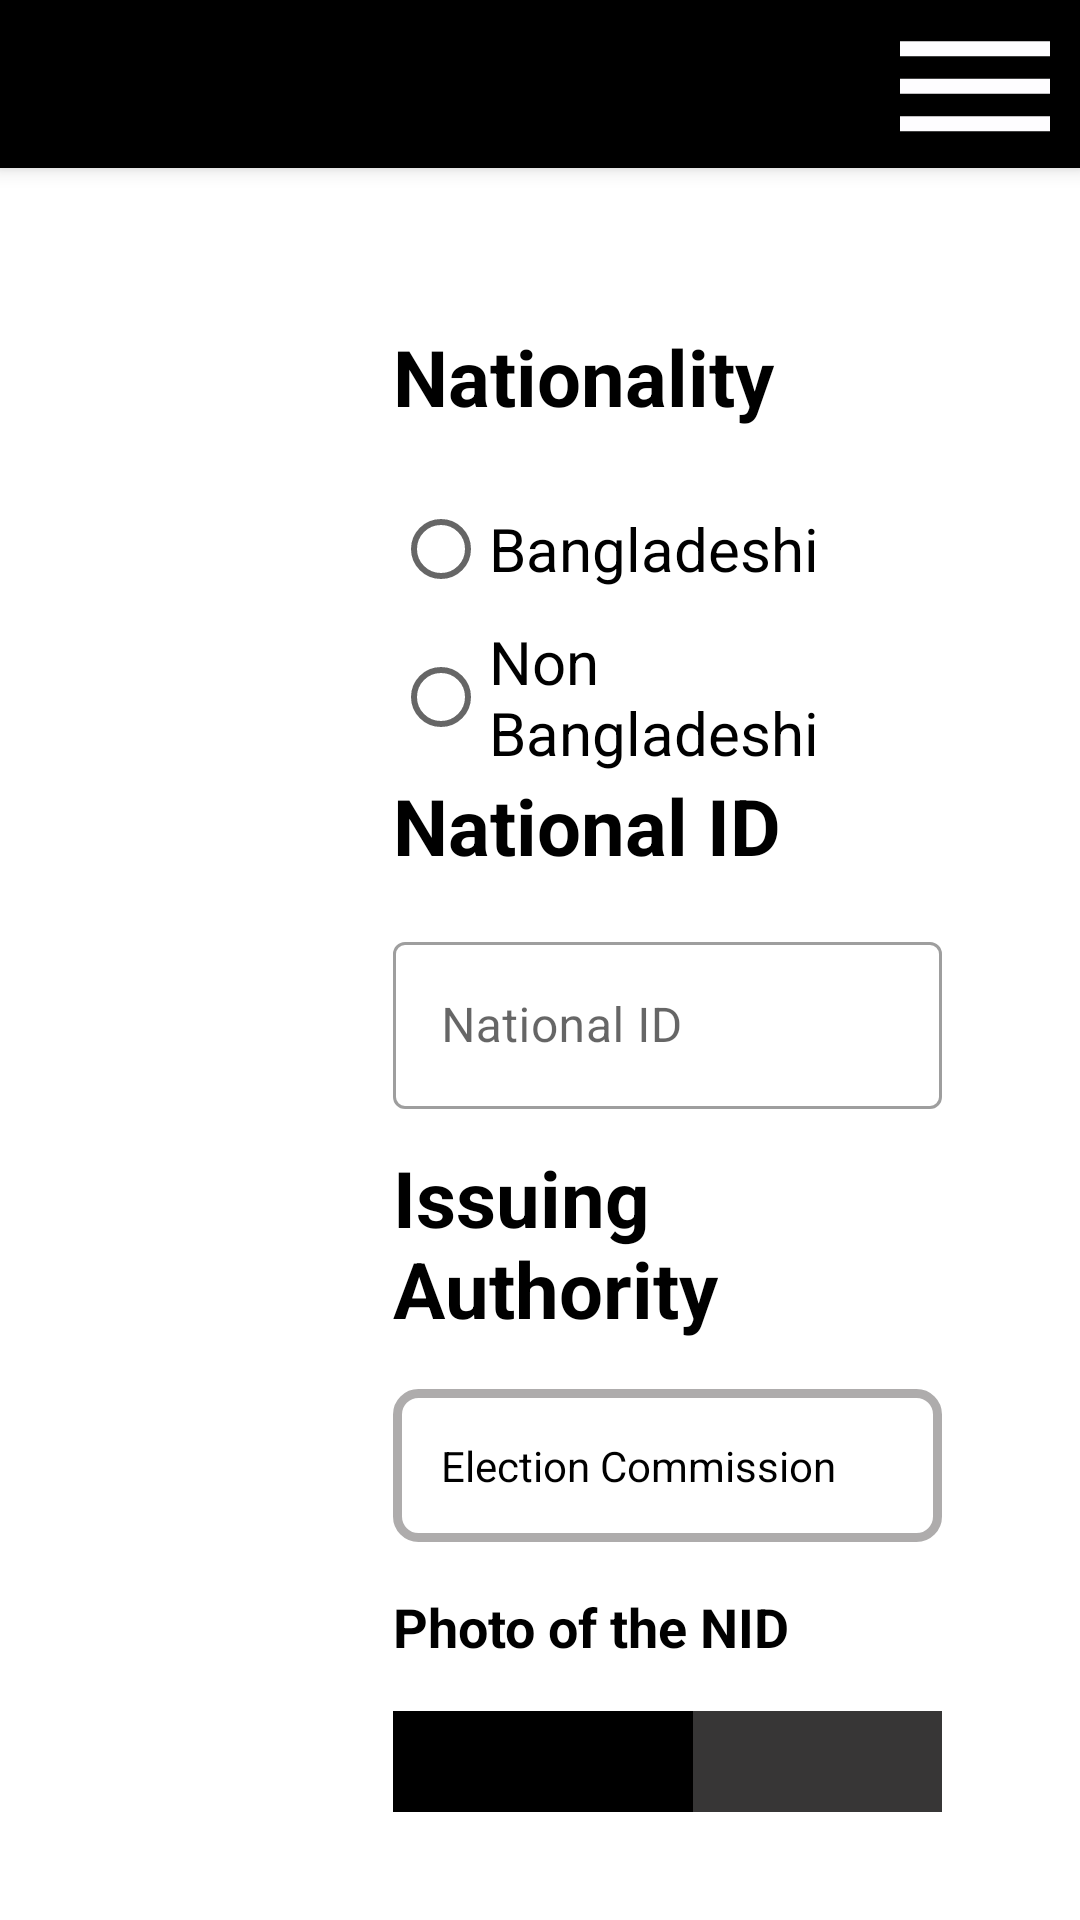

Icon bounding boxes for this 1080px x 1920px phone screenshot, format (x1, y1, x2, y2):
dehaze: (900, 41, 1050, 132)
